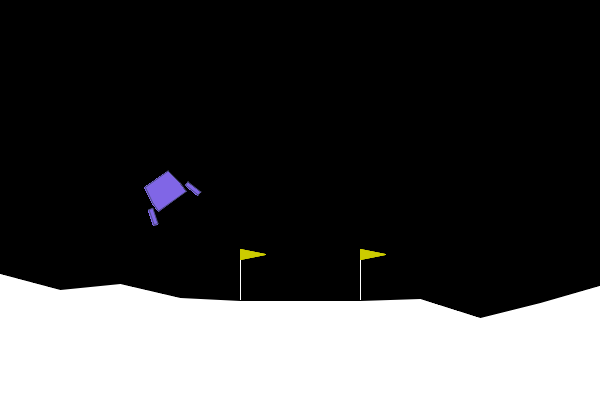lander: (131, 161, 203, 228)
